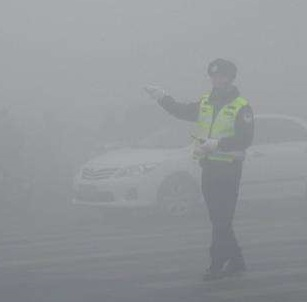person: (142, 58, 253, 279)
